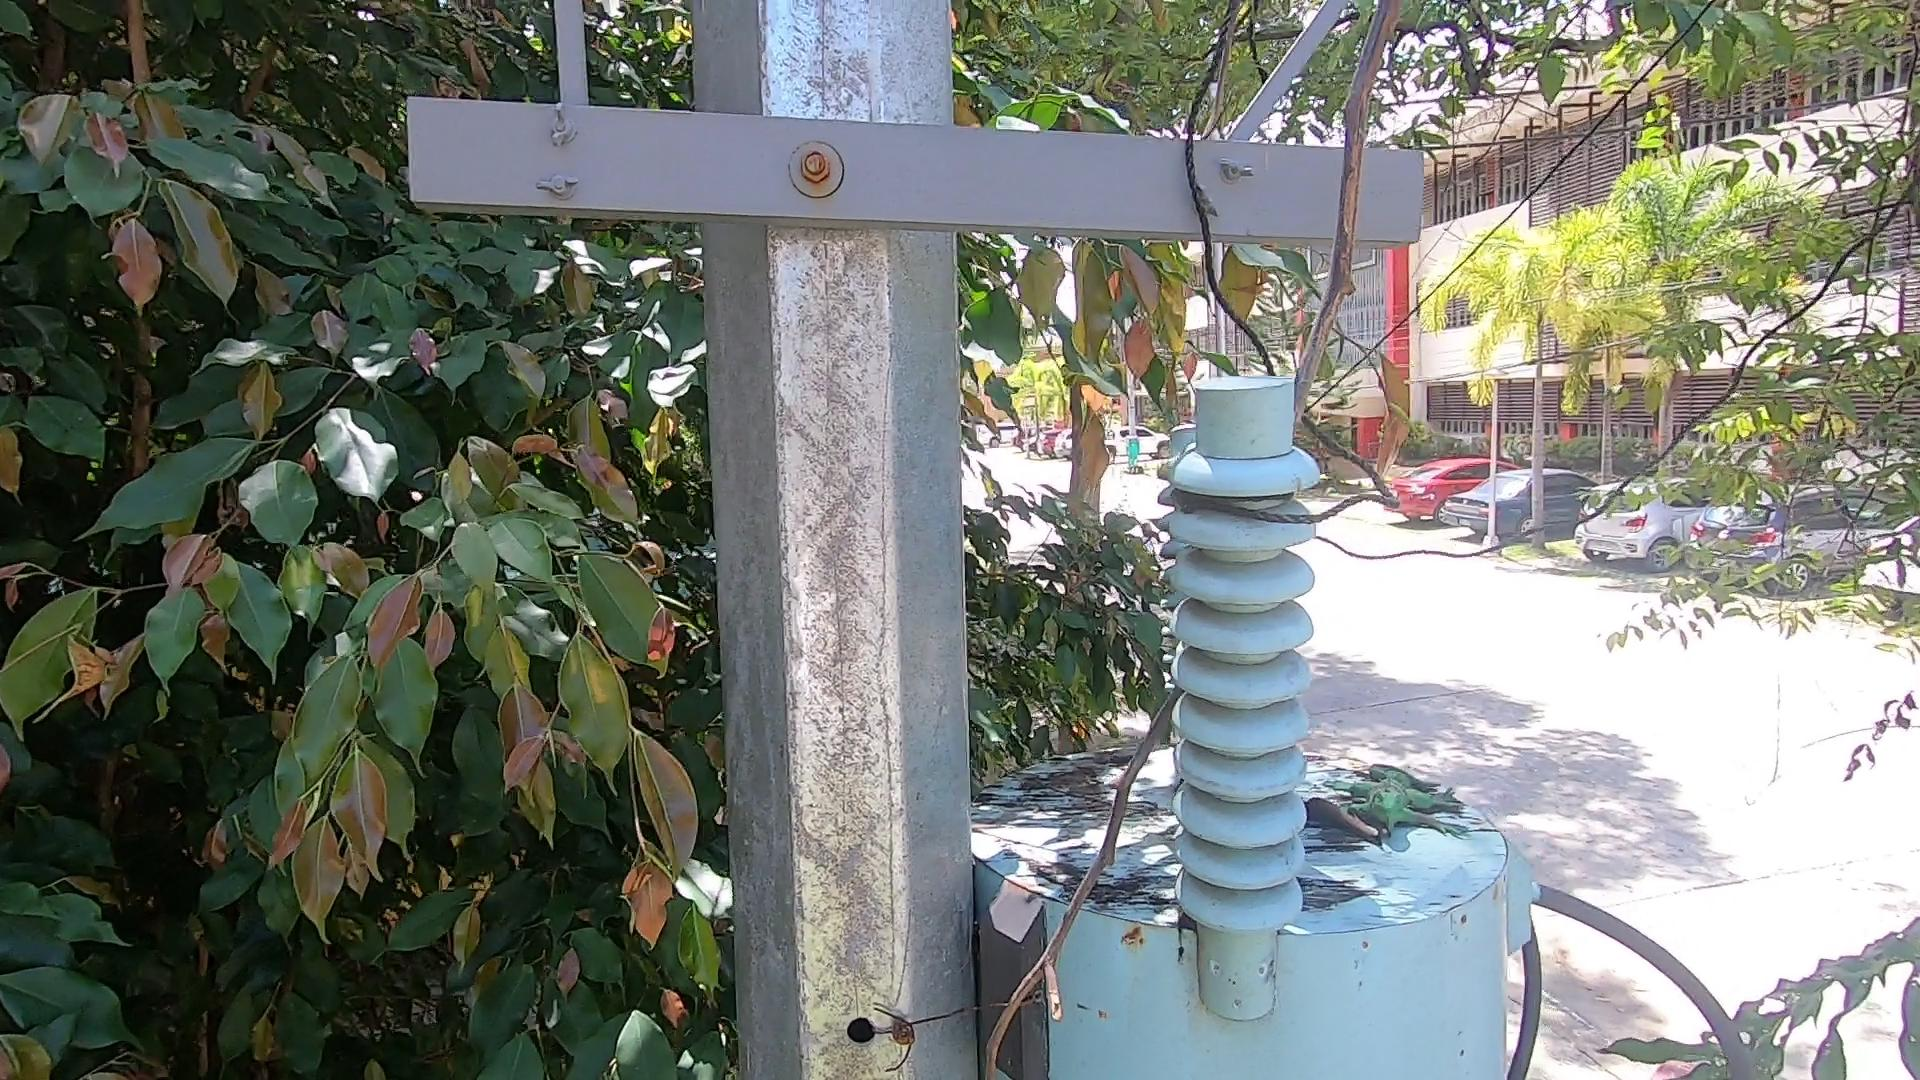branch with leaves: (1004, 248, 1420, 465)
leaf: (1304, 791, 1371, 855), (1029, 764, 1122, 807)
tree branch: (869, 18, 1383, 1080)
